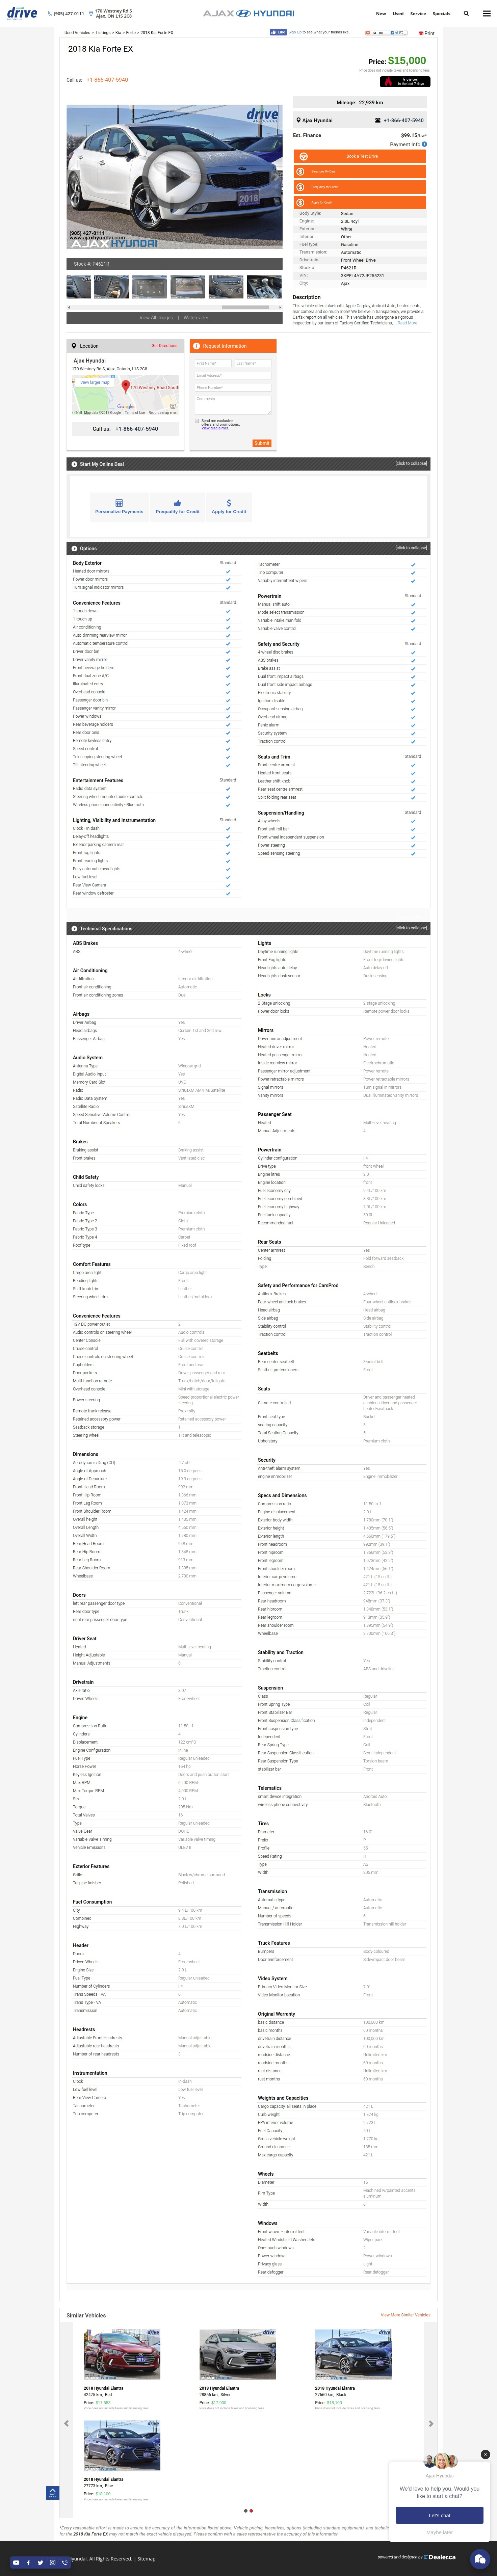car: (278, 306, 281, 309)
